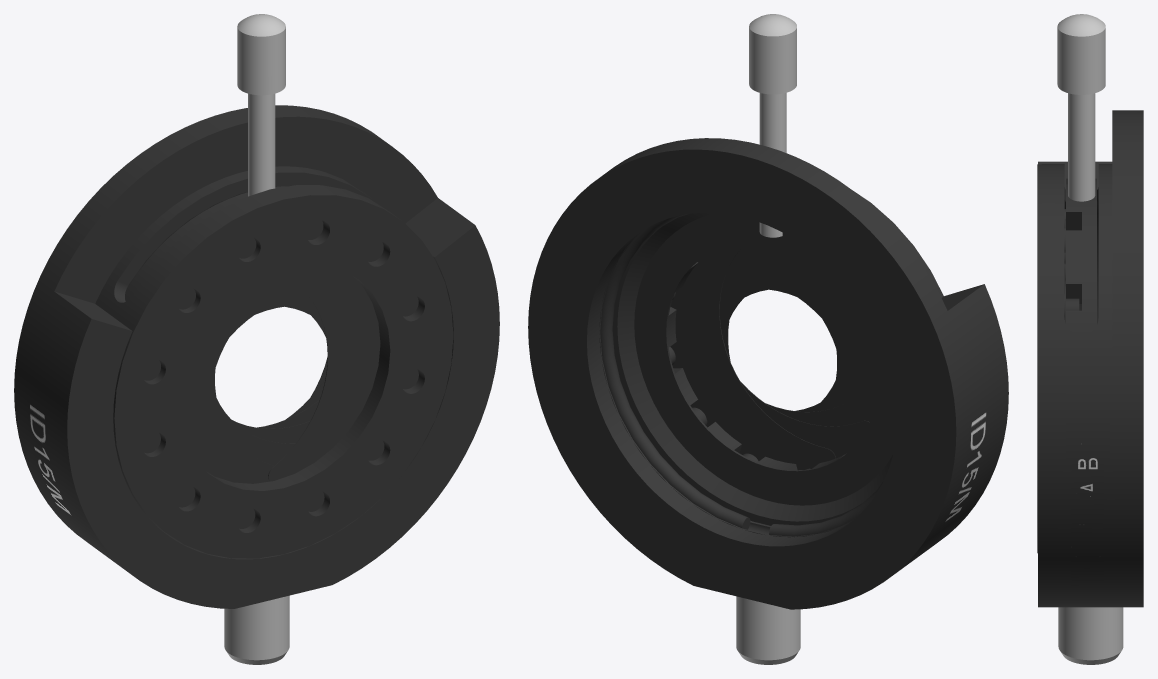
3 views of the same model, side by side, from view 1: azimuth 30°, elevation 25°; view 2: azimuth 150°, elevation 25°; view 3: azimuth 270°, elevation 25° (orthographic).
Visible parts, largest first — view 1: housing, blade_02, actuator, blade_07, blade_08, blade_03, blade_06, blade_04, blade_05, blade_09, blade_10, blade_11; view 2: housing, actuator, blade_01, blade_12, blade_11, blade_07, blade_10, blade_08, blade_09, blade_06, blade_05; view 3: housing, actuator.
Boxes of the visible parts, x1=… form: housing: x1=14, y1=105, x2=499, y2=664; blade_02: x1=237, y1=237, x2=376, y2=481; actuator: x1=125, y1=14, x2=287, y2=301; blade_07: x1=190, y1=338, x2=255, y2=528; blade_08: x1=209, y1=368, x2=324, y2=511; blade_03: x1=177, y1=270, x2=380, y2=394; blade_06: x1=177, y1=315, x2=253, y2=507; blade_04: x1=143, y1=291, x2=379, y2=380; blade_05: x1=143, y1=306, x2=283, y2=453; blade_09: x1=216, y1=398, x2=384, y2=465; blade_10: x1=232, y1=369, x2=418, y2=443; blade_11: x1=257, y1=296, x2=418, y2=428; housing: x1=528, y1=138, x2=1008, y2=664; actuator: x1=612, y1=14, x2=897, y2=525; blade_01: x1=671, y1=245, x2=835, y2=470; blade_12: x1=670, y1=303, x2=869, y2=458; blade_11: x1=672, y1=362, x2=876, y2=426; blade_07: x1=737, y1=245, x2=836, y2=348; blade_10: x1=691, y1=327, x2=876, y2=454; blade_08: x1=782, y1=251, x2=844, y2=378; blade_09: x1=821, y1=283, x2=863, y2=402; blade_06: x1=726, y1=253, x2=821, y2=317; blade_05: x1=672, y1=275, x2=796, y2=299; housing: x1=1037, y1=110, x2=1143, y2=664; actuator: x1=1057, y1=14, x2=1105, y2=334.
Bounding box in the file's own units: 0.0306 × 0.0432 × 0.00655.
3 materials, 1 textured.
